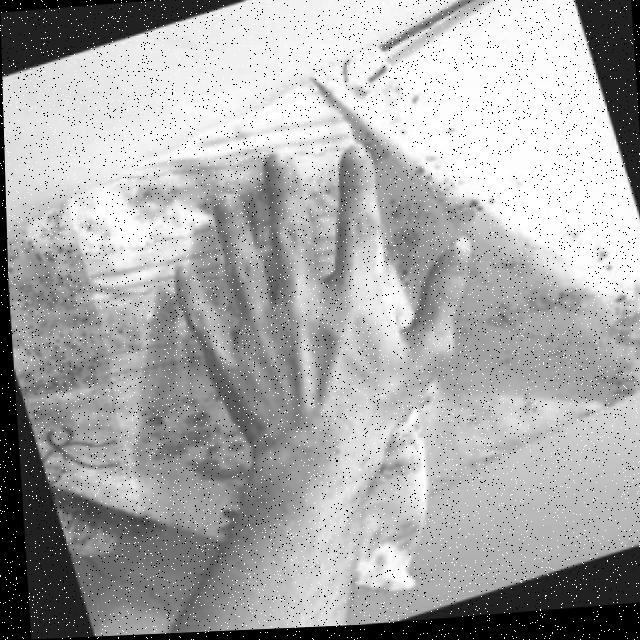no-gloves: (162, 134, 480, 432)
